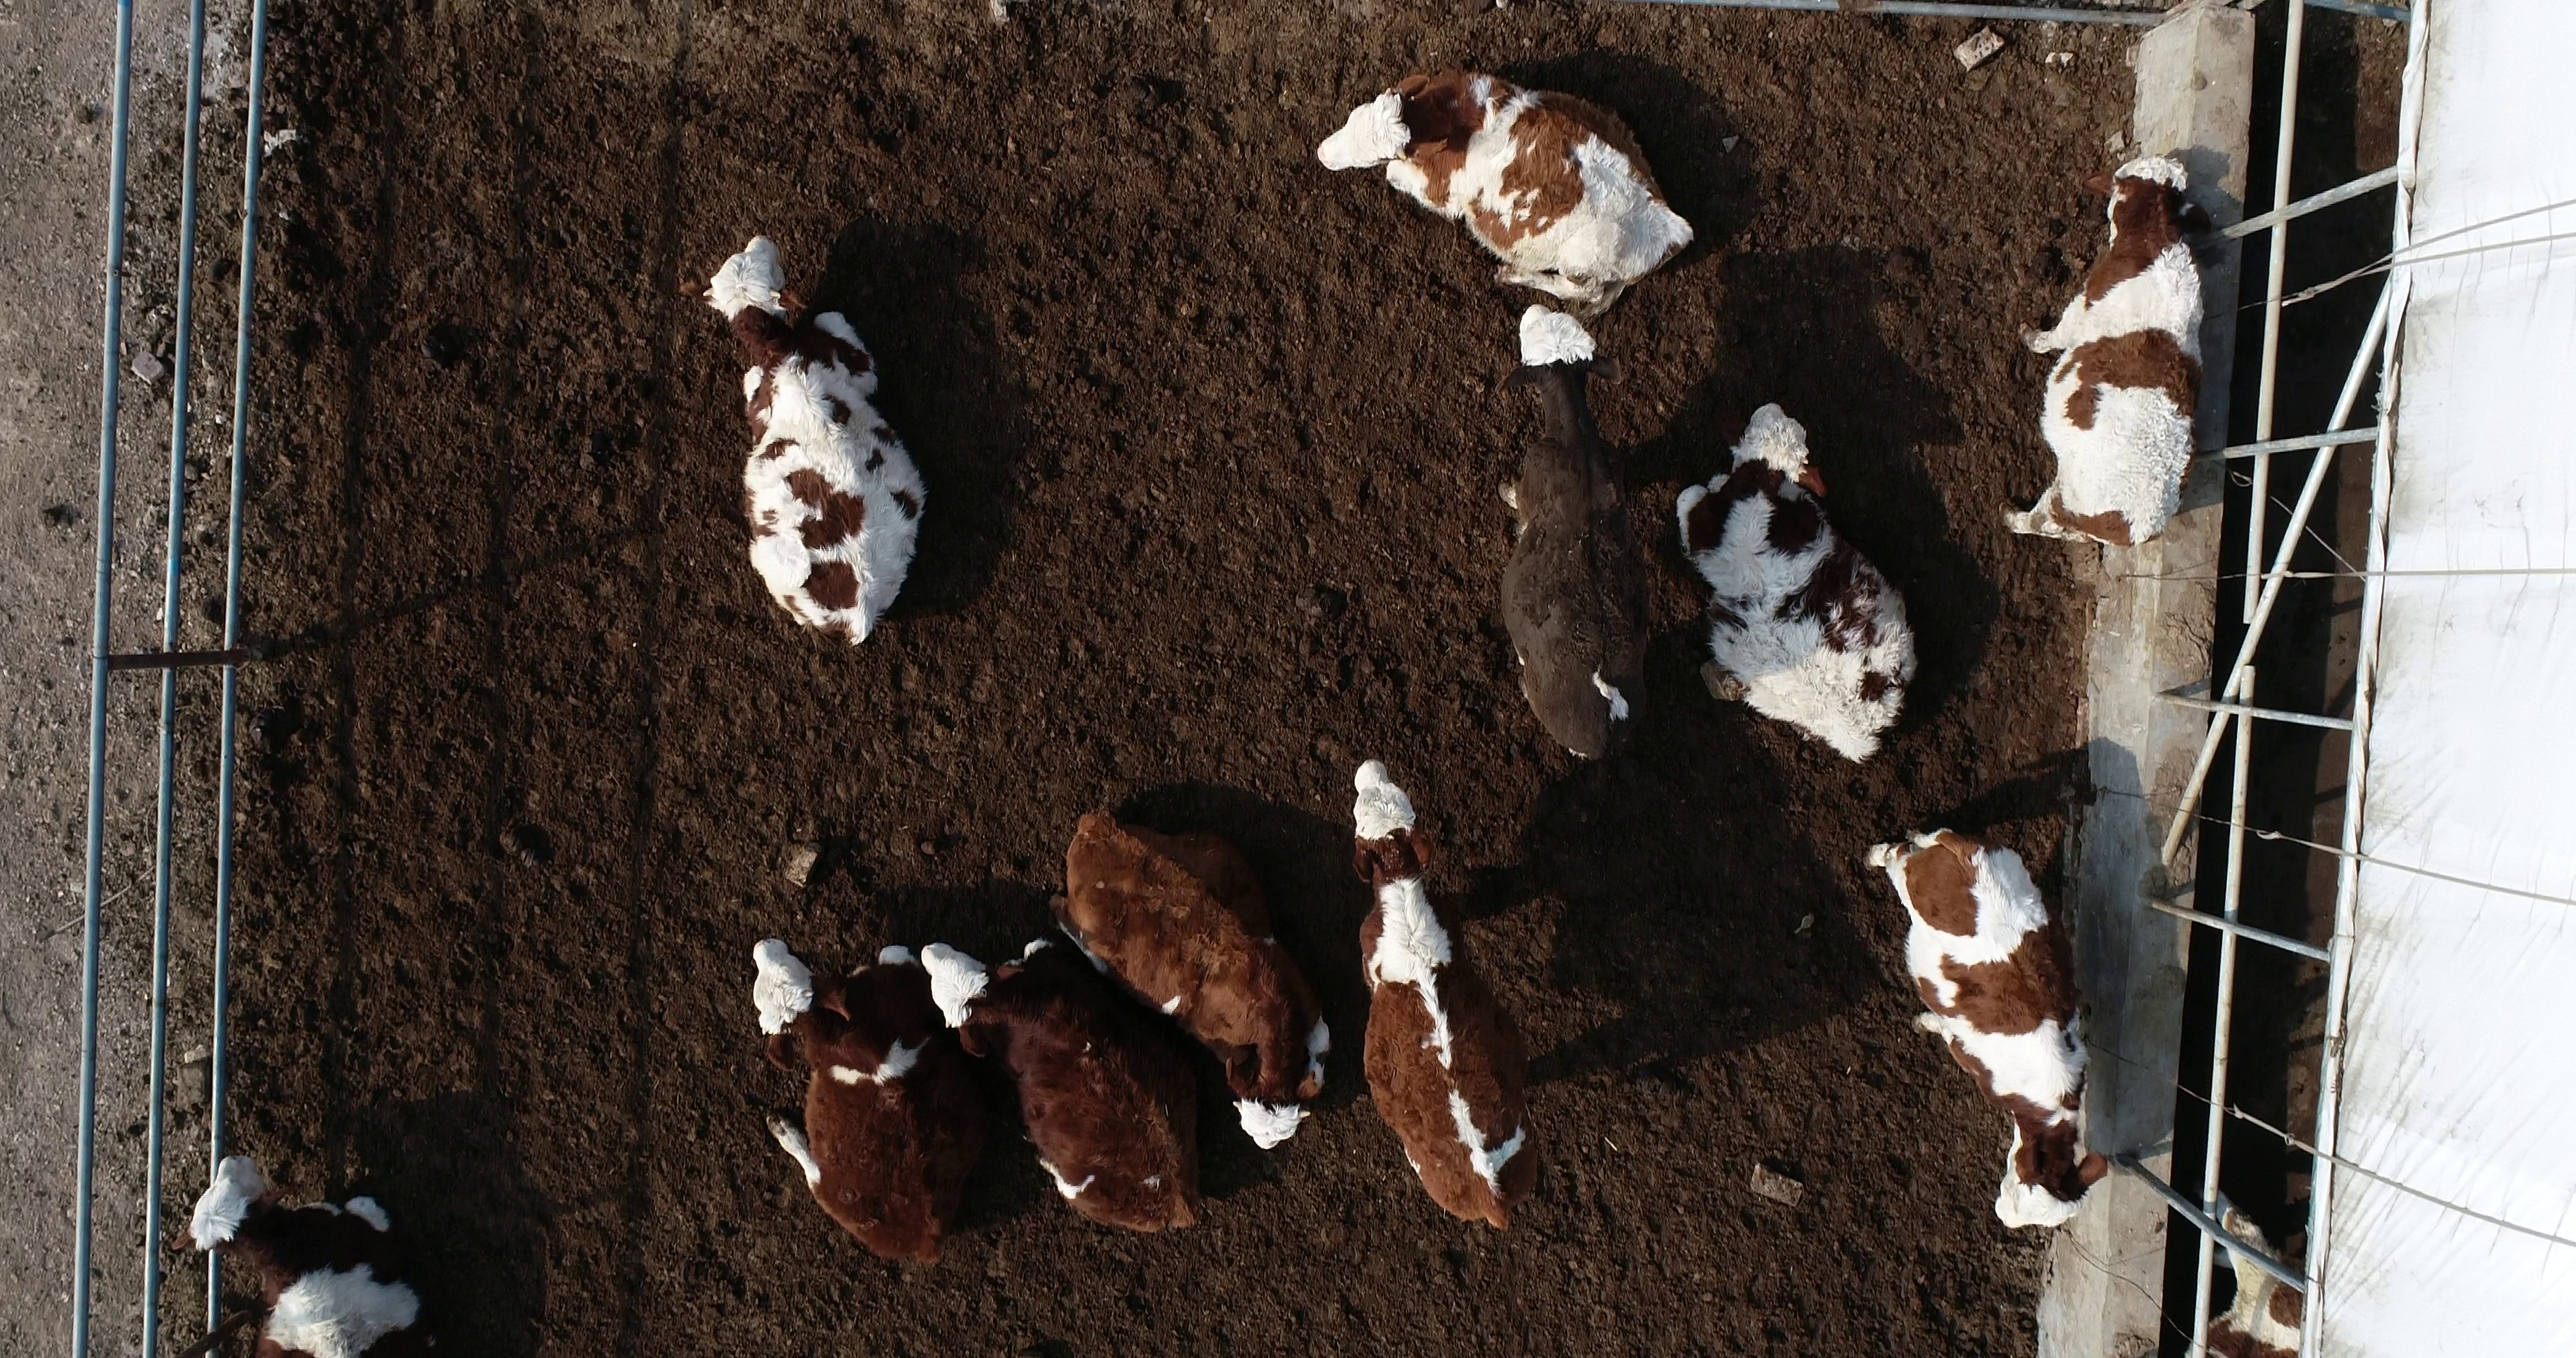cattle: (671, 223, 932, 651), (1860, 816, 2118, 1239), (1049, 799, 1346, 1155), (1343, 746, 1552, 1247), (1300, 60, 1704, 310), (911, 922, 1215, 1242), (1666, 395, 1923, 772), (1992, 143, 2222, 554), (739, 927, 969, 1271), (1489, 303, 1658, 767)
